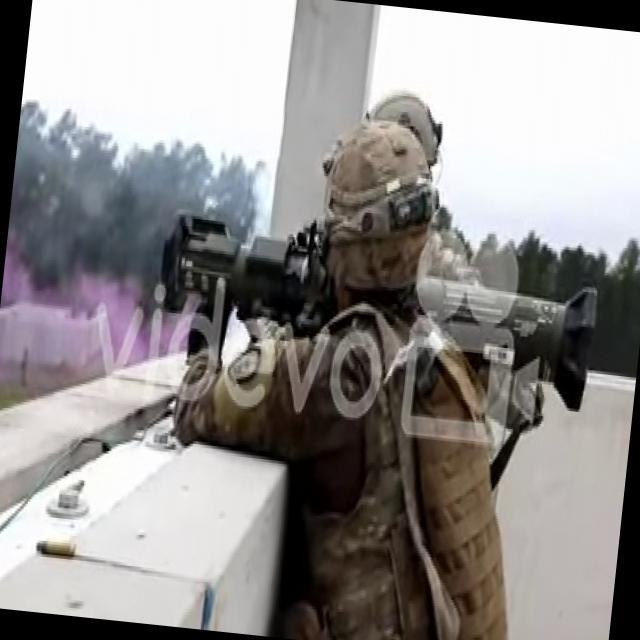rocket: (152, 213, 604, 410)
